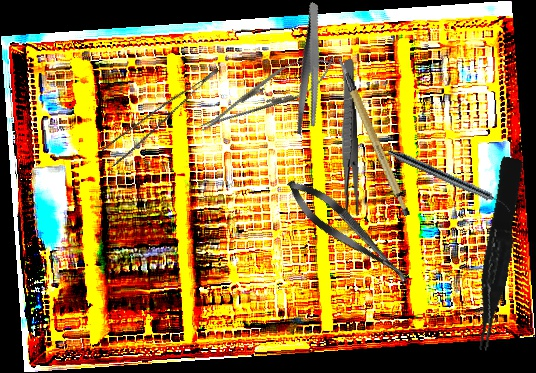Dressing Forceps: (268, 1, 353, 139), (338, 59, 361, 217)
Handpiece: (385, 146, 515, 214)
Micro Scissor: (279, 170, 419, 295)
Needle Holder: (191, 43, 343, 145)
Scalpel Handle: (336, 49, 414, 223)
Tissue Forceps: (462, 156, 532, 352), (97, 68, 233, 167)
